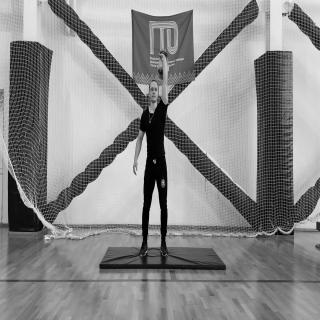girya: (158, 51, 171, 81)
